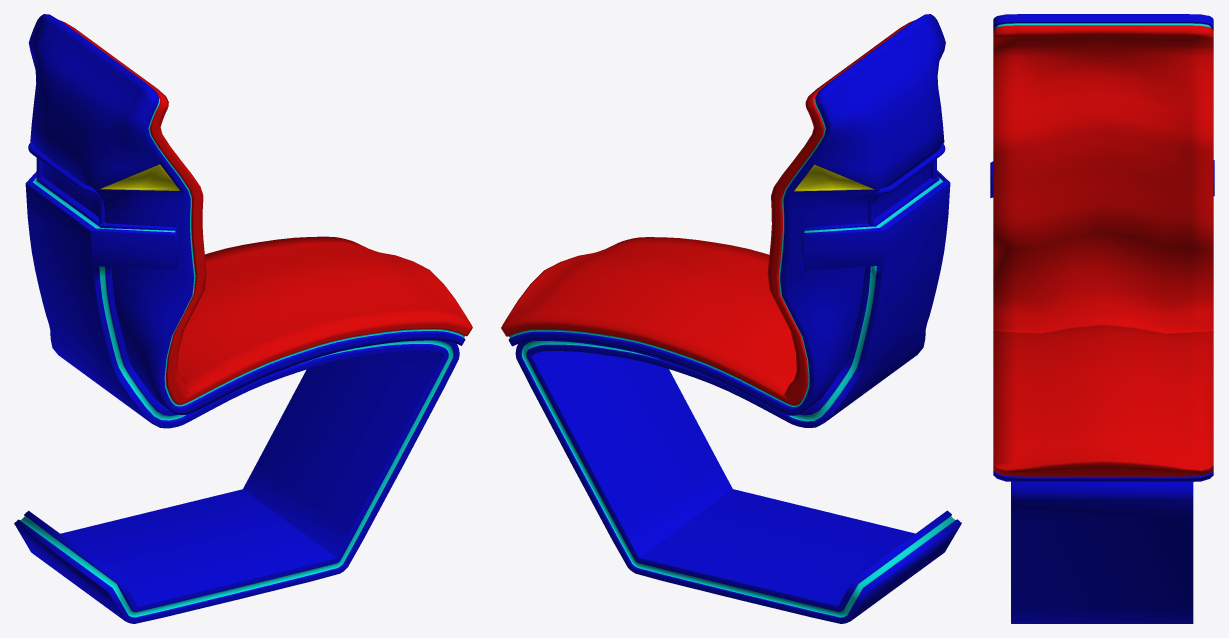
File: Computer_System_Chair.fbx
3 renders of one model, left to right at view 1: azimuth 30°, elevation 25°; view 2: azimuth 150°, elevation 25°; view 3: azimuth 270°, elevation 25°, orthographic. The views are drawn at different scales.
Parts seen in each view (by area): view 1: Computer_System_Chair; view 2: Computer_System_Chair; view 3: Computer_System_Chair.
Part boxes in pixels (left/top/right/bottom): Computer_System_Chair: left=14, top=14, right=472, bottom=623; Computer_System_Chair: left=501, top=14, right=961, bottom=623; Computer_System_Chair: left=990, top=14, right=1214, bottom=623.
Size of the model in its own units: 126 by 172 by 67.4.
